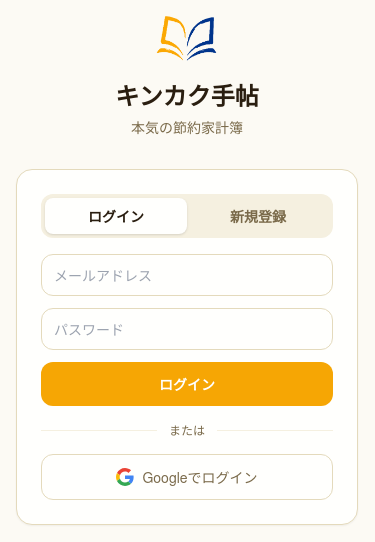
Test case: AuthScreen — 表示 › 新規登録タブに切り替えるとボタンのラベルが変わる
Click the tab "新規登録" at (258, 216), box [187, 198, 329, 234]
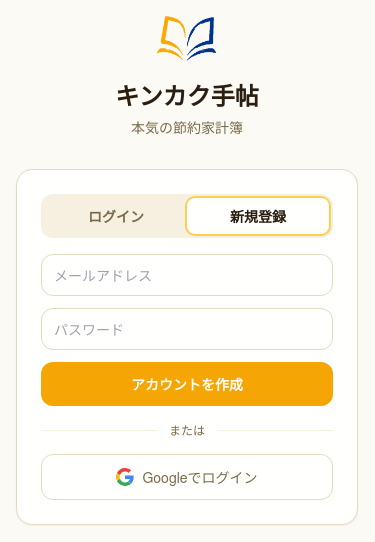
Check: the button "アカウントを作成" is shown, box [41, 362, 333, 406]
